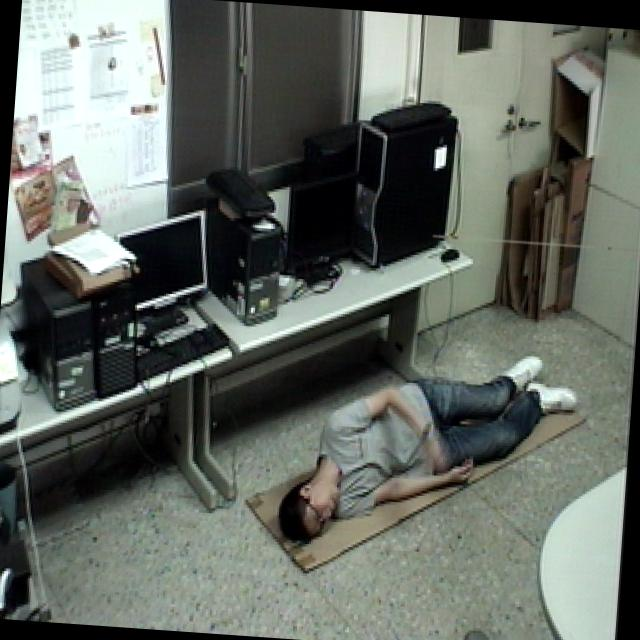lie: (264, 321, 586, 562)
